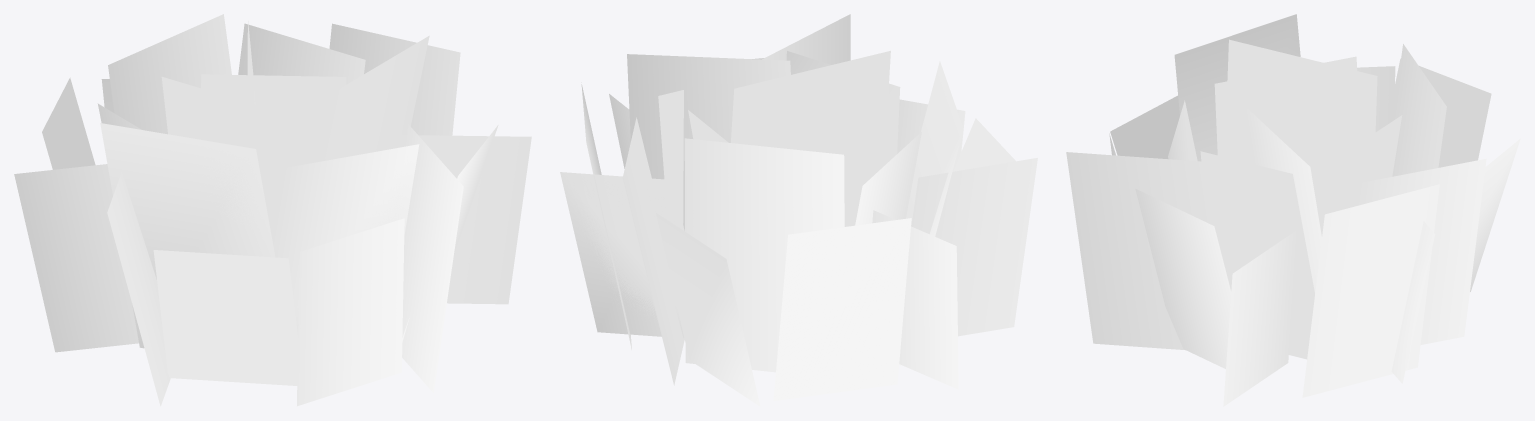
The model's file is TFF_Grass_Patch_02.fbx.
The picture shows the model from 3 angles, left to right: view 1: azimuth 30°, elevation 25°; view 2: azimuth 150°, elevation 25°; view 3: azimuth 270°, elevation 25°; orthographic projection. The views are drawn at different scales.
Parts seen in each view (by area): view 1: TFF_Grass_Patch_02_LOD0; view 2: TFF_Grass_Patch_02_LOD0; view 3: TFF_Grass_Patch_02_LOD0.
Part boxes in pixels (<box>): TFF_Grass_Patch_02_LOD0: <box>14,14,531,406</box>; TFF_Grass_Patch_02_LOD0: <box>560,14,1037,406</box>; TFF_Grass_Patch_02_LOD0: <box>1066,14,1520,406</box>.
Size of what is drawn, in the model's own units: 1.26 by 0.7547 by 1.22.
